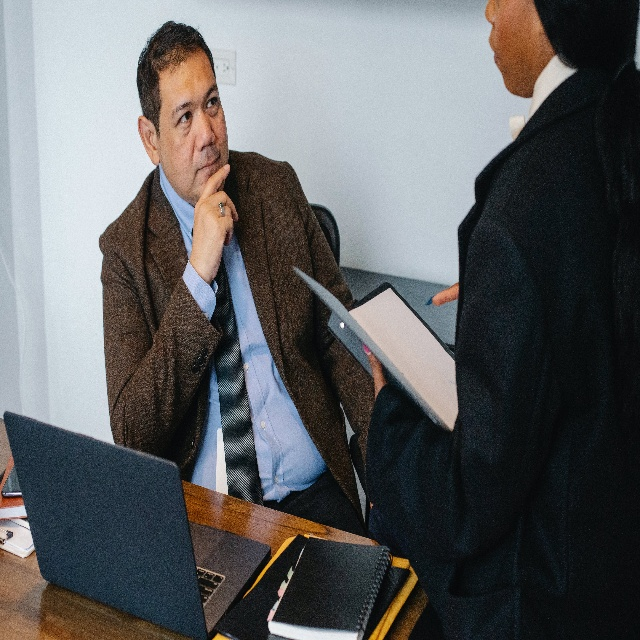Sin_guantes: (187, 162, 238, 283), (362, 341, 388, 402), (425, 278, 461, 309)
